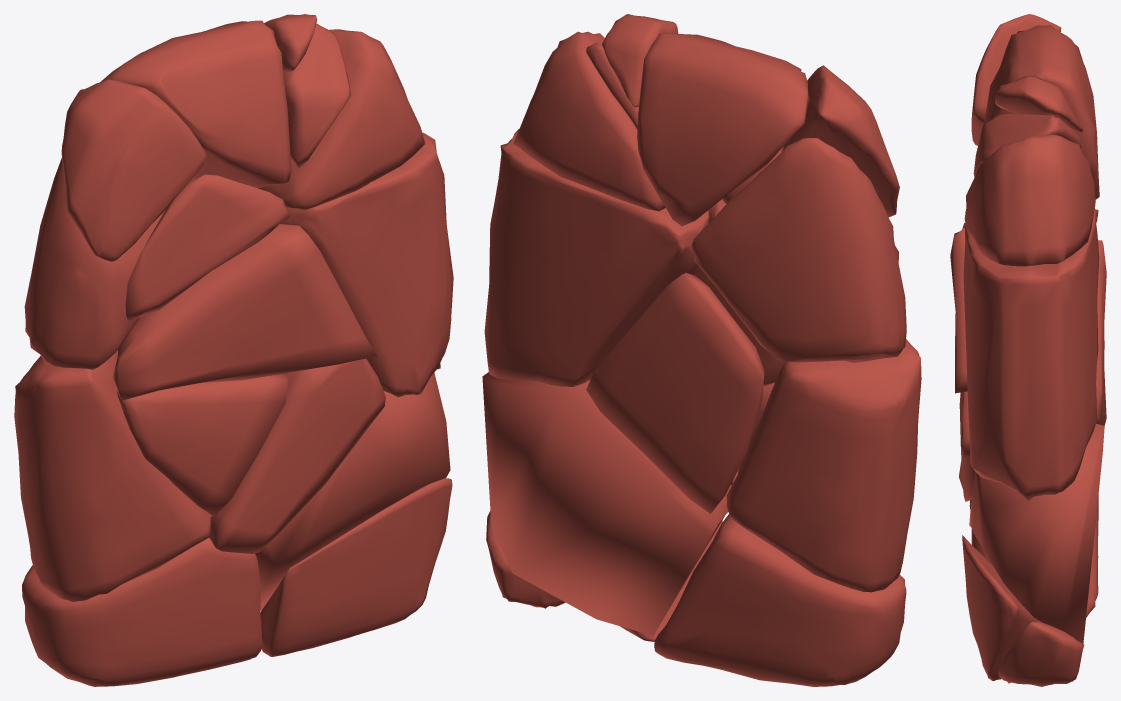
File: kamen_1_fbkh.fbx
3 views of the same model, side by side, from view 1: azimuth 30°, elevation 25°; view 2: azimuth 150°, elevation 25°; view 3: azimuth 270°, elevation 25° (orthographic). The views are drawn at different scales.
Parts seen in each view (by area): view 1: 15, 8, 14, 9, 13, 5, 6, 10, 12, 11, 17, 2 (+3 smaller); view 2: 12, 15, 17, 9, 14, 18, 5, 2, 6, 4, 16, 8 (+1 smaller); view 3: 9, 12, 2, 5, 13, 16, 3, 4, 6, 8, 18, 10 (+1 smaller).
Part boxes in pixels (x1,y1,x2,y2): 15: (14, 350, 211, 601); 8: (113, 224, 376, 400); 14: (22, 538, 262, 686); 9: (187, 132, 453, 397); 13: (260, 478, 452, 656); 5: (100, 20, 291, 188); 6: (61, 79, 207, 261); 10: (209, 358, 385, 553); 12: (255, 372, 450, 610); 11: (117, 373, 287, 516); 17: (24, 158, 165, 369); 2: (258, 29, 425, 210); 12: (482, 372, 731, 635); 15: (726, 339, 921, 592); 17: (690, 138, 906, 362); 9: (484, 129, 709, 386); 14: (654, 514, 906, 686); 18: (586, 273, 764, 513); 5: (637, 32, 810, 226); 2: (513, 31, 665, 211); 6: (781, 65, 899, 217); 4: (601, 14, 678, 107); 16: (486, 511, 565, 608); 8: (694, 199, 785, 386); 9: (963, 209, 1099, 500); 12: (969, 423, 1104, 643); 2: (964, 134, 1095, 266); 5: (984, 24, 1099, 199); 13: (962, 535, 1037, 680); 16: (998, 620, 1084, 686); 3: (973, 113, 1080, 176); 4: (995, 75, 1083, 132); 6: (971, 14, 1061, 145); 8: (950, 223, 967, 393); 18: (1096, 240, 1106, 425); 10: (959, 391, 974, 501).
Bounding box in the file's own units: 20934 × 29436 × 7343.
